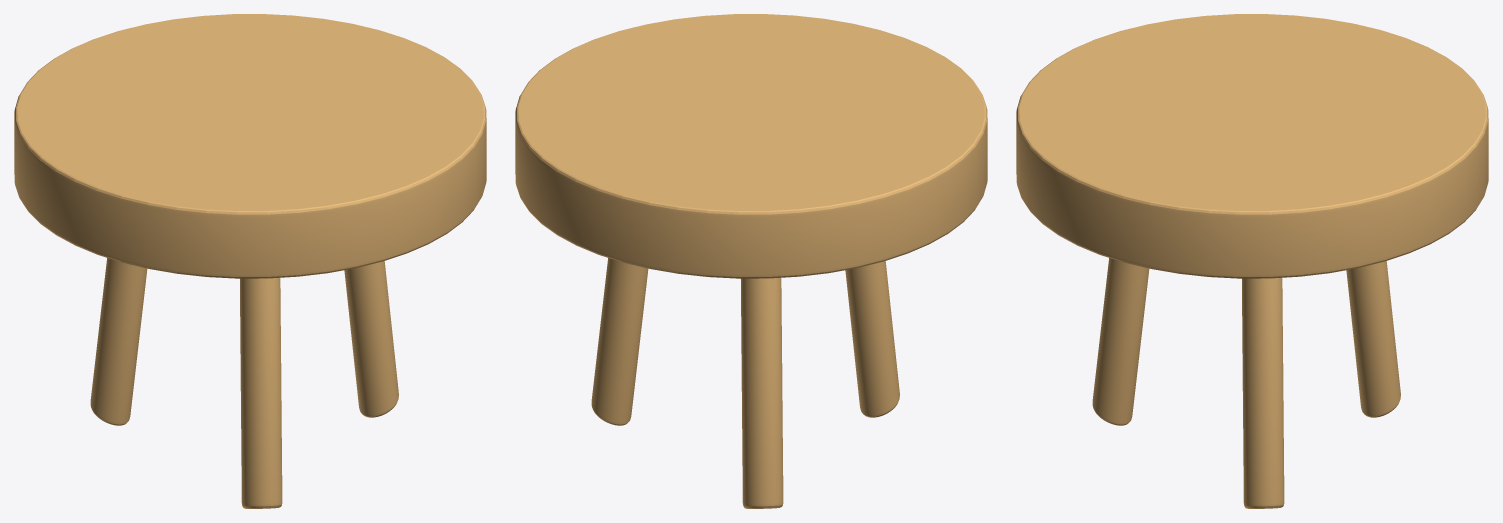
File: terrace-table.glb
3 renders of one model, left to right at view 1: azimuth 30°, elevation 25°; view 2: azimuth 150°, elevation 25°; view 3: azimuth 270°, elevation 25°, orthographic.
Parts seen in each view (by area): view 1: part_00000; view 2: part_00000; view 3: part_00000.
Boxes of the visible parts, <box> form: part_00000: <box>14,14,486,508</box>; part_00000: <box>515,14,987,508</box>; part_00000: <box>1016,14,1488,508</box>.
Size of the model in its own units: 0.7987 by 0.6275 by 0.7987.
